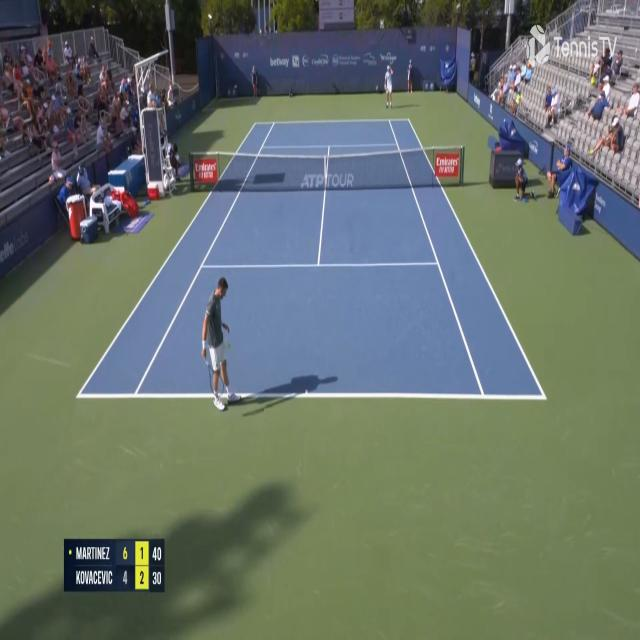tennis-player: (202, 273, 236, 417), (384, 64, 394, 109)
